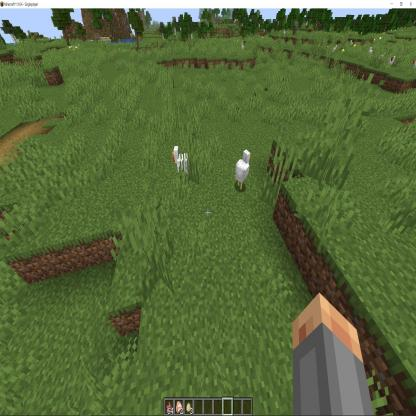minecraft-pigs: (233, 148, 252, 198), (170, 144, 192, 179), (387, 54, 396, 73), (410, 55, 416, 75), (332, 43, 338, 55), (368, 46, 373, 58), (349, 38, 354, 48), (240, 43, 245, 51)
